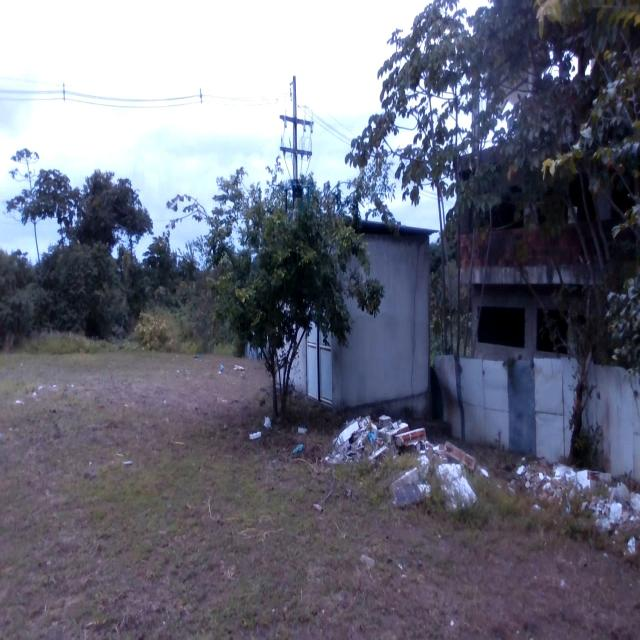-uav-: (276, 169, 318, 219)
